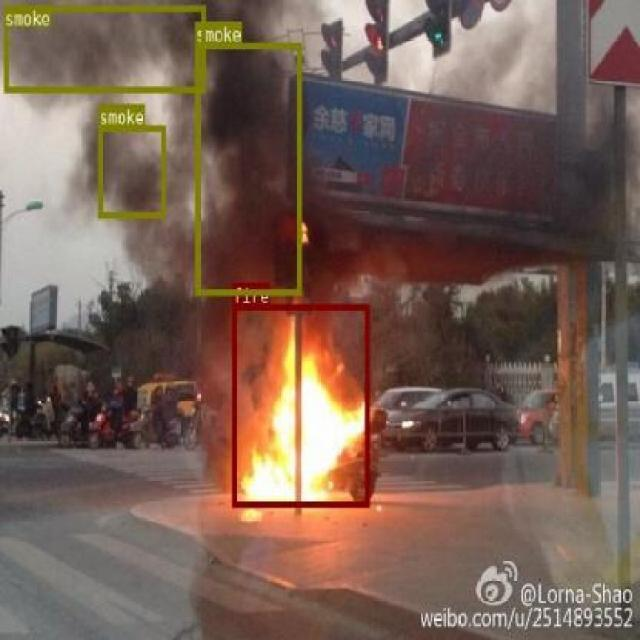Fire: (232, 303, 368, 506)
Smoke: (194, 41, 302, 294), (3, 5, 205, 91), (97, 125, 165, 217)
